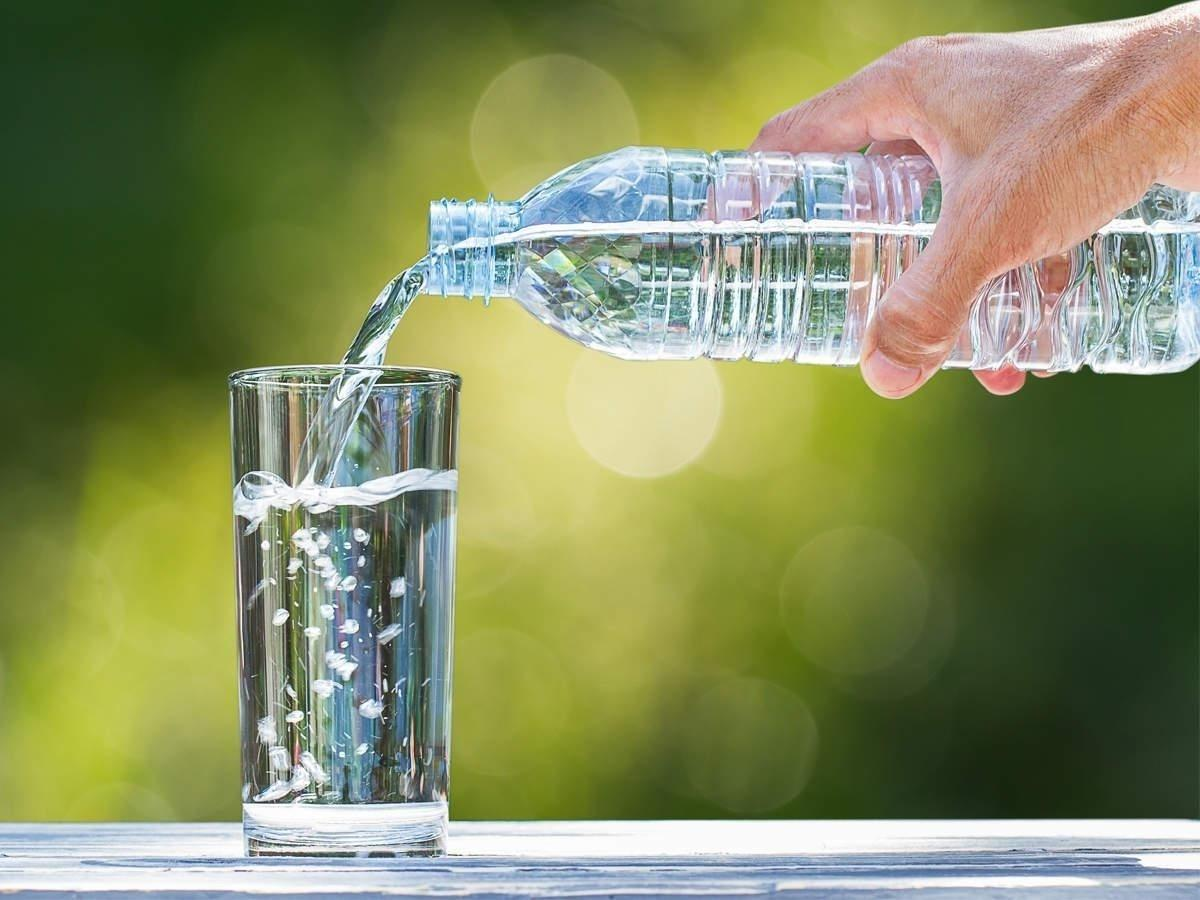bottle-plastic: (421, 137, 1199, 373)
glass-normal: (227, 363, 462, 860)
